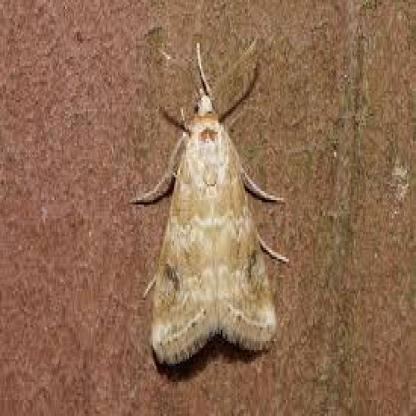Hellula undalis: (130, 32, 296, 383)
